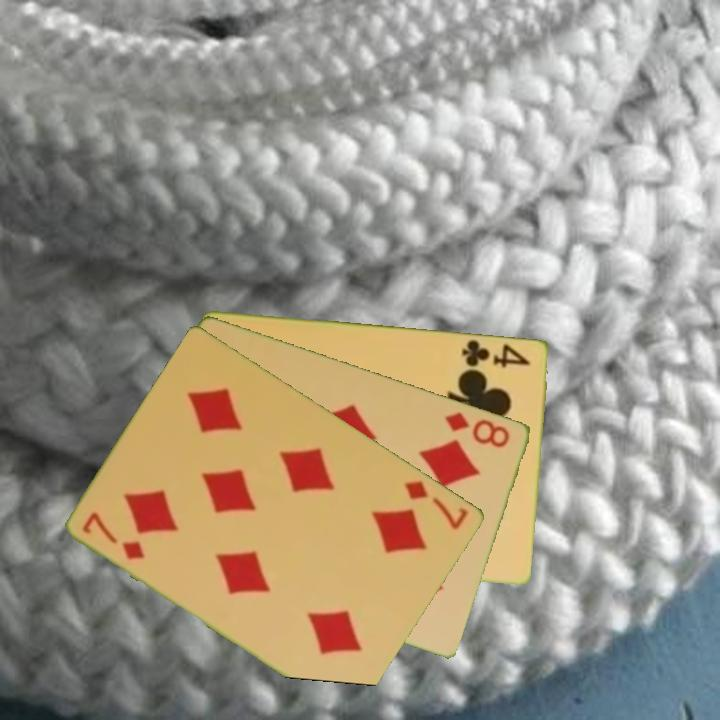4c: (459, 336, 534, 370)
7d: (401, 476, 472, 533), (79, 508, 149, 563)
8d: (441, 408, 513, 450)
